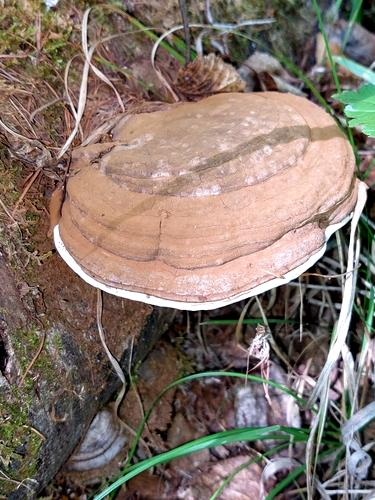Ganoderma - Fruit Body: (43, 85, 365, 311)
